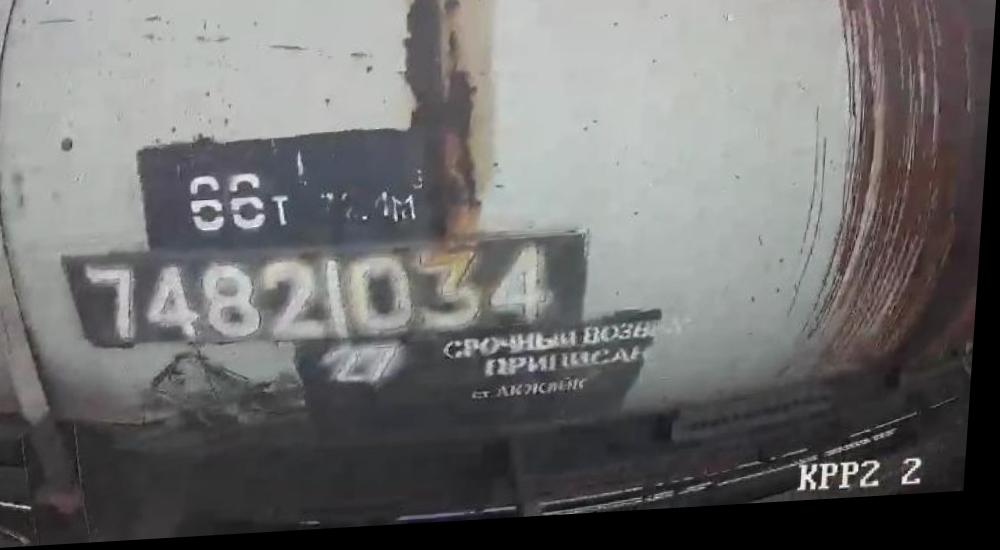Wagon-number: (81, 238, 558, 359)
